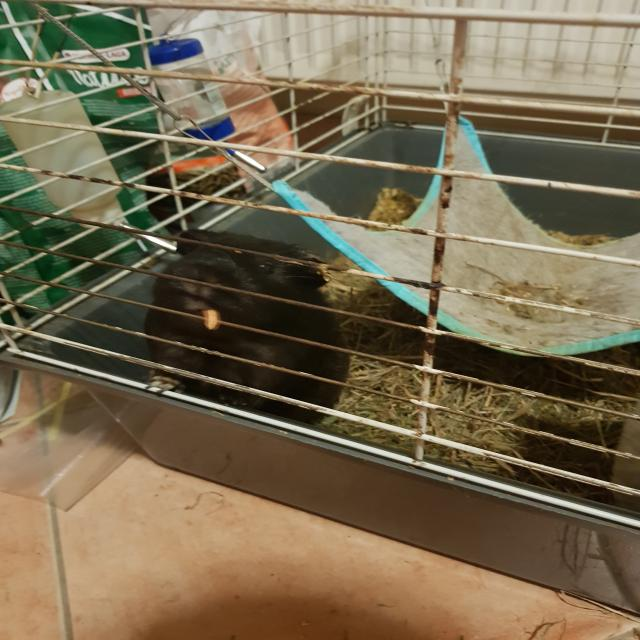guinea pig: (141, 226, 351, 431)
